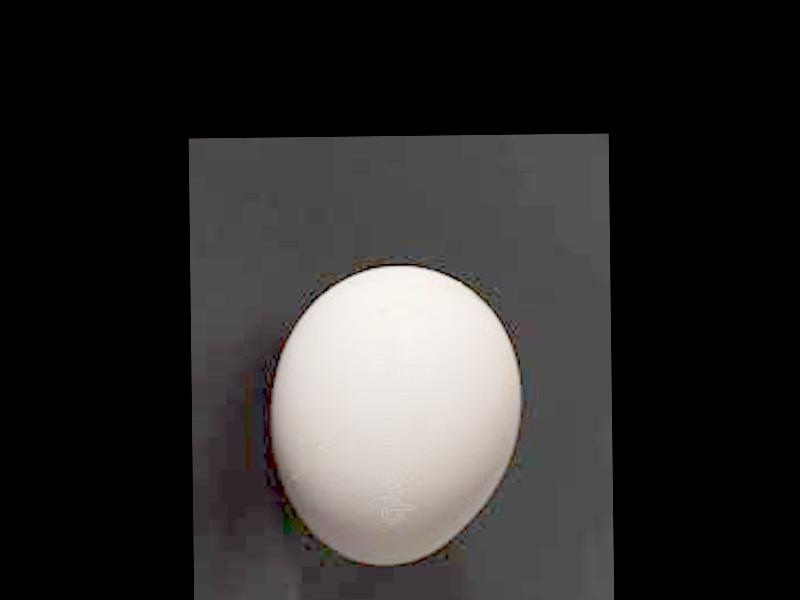Eggs: (272, 262, 521, 564)
